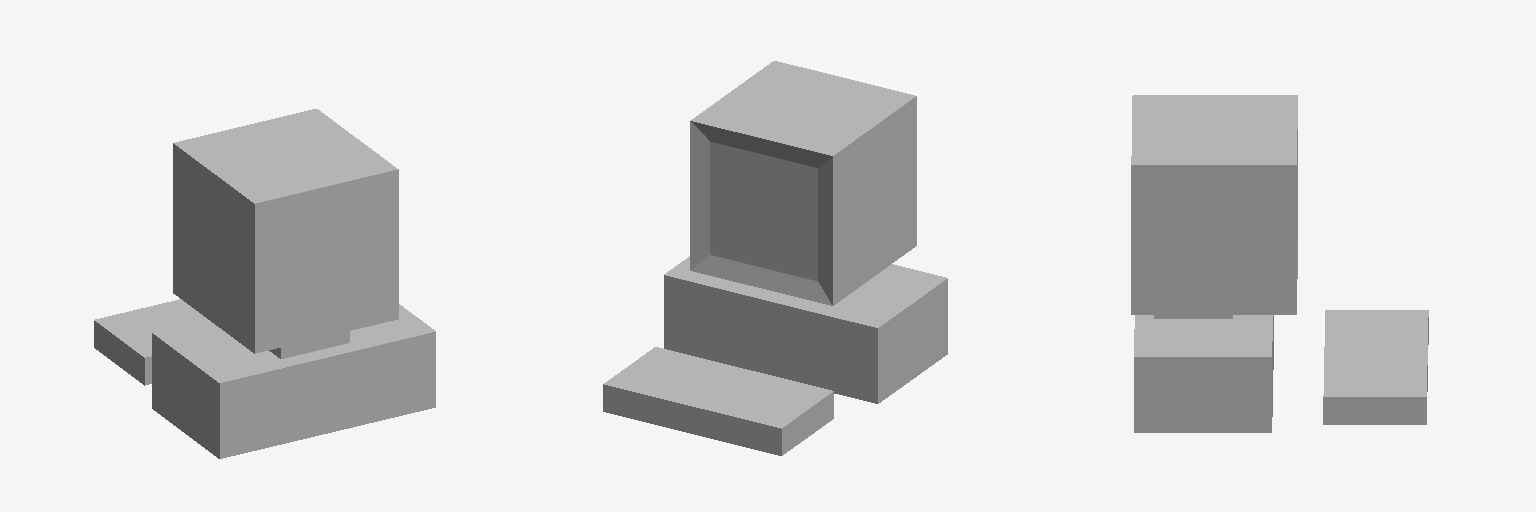
The model's file is FM_computer.obj.
The picture shows the model from 3 angles: view 1: azimuth 30°, elevation 25°; view 2: azimuth 150°, elevation 25°; view 3: azimuth 270°, elevation 25°; orthographic projection.
Visible parts, largest first — view 1: Computer_Cube.004_Screen, Computer_Cube.004_Screen_computertex.png.001; view 2: Computer_Cube.004_Screen, Computer_Cube.004_Screen_computertex.png.001; view 3: Computer_Cube.004_Screen, Computer_Cube.004_Screen_computertex.png.001.
Boxes of the visible parts, x1=… form: Computer_Cube.004_Screen: x1=94, y1=109, x2=398, y2=385; Computer_Cube.004_Screen_computertex.png.001: x1=152, y1=304, x2=435, y2=458; Computer_Cube.004_Screen: x1=603, y1=61, x2=916, y2=455; Computer_Cube.004_Screen_computertex.png.001: x1=664, y1=256, x2=947, y2=403; Computer_Cube.004_Screen: x1=1131, y1=95, x2=1428, y2=424; Computer_Cube.004_Screen_computertex.png.001: x1=1134, y1=315, x2=1273, y2=432.
Bounding box in the file's own units: 0.796 × 0.8741 × 0.9459.